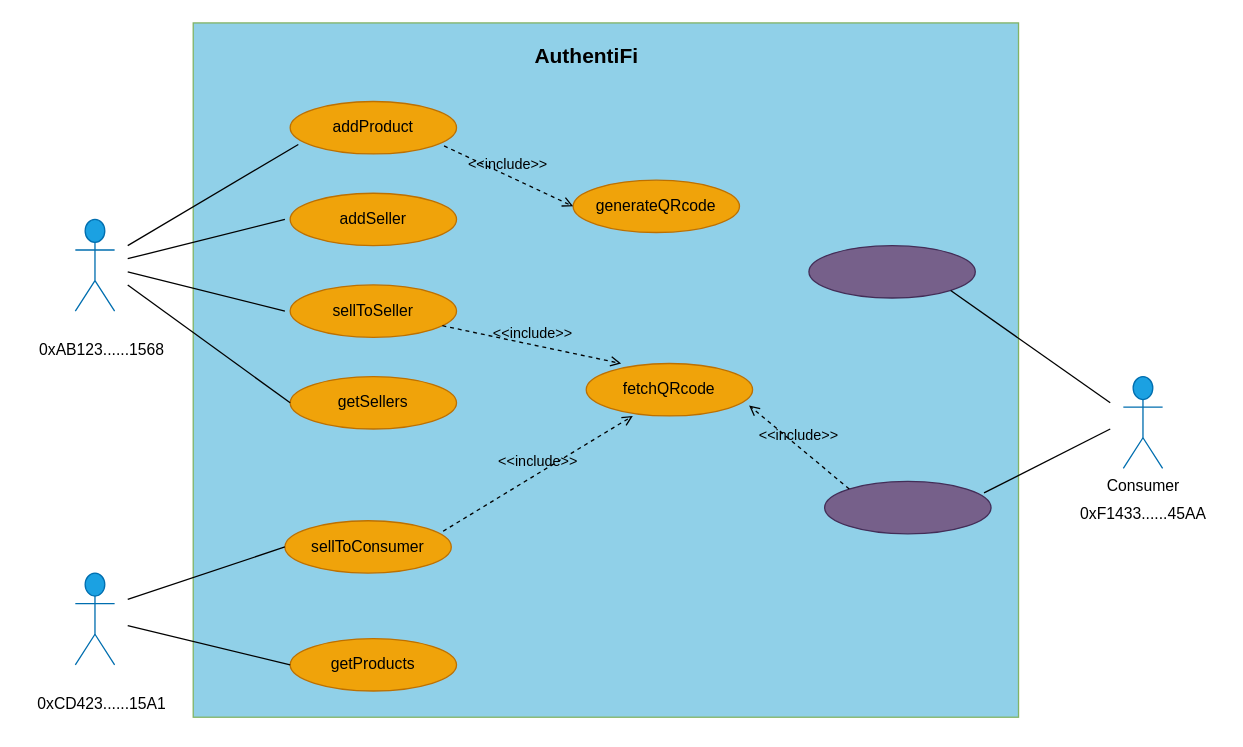
Some shapes in this 1243 by 747 pixel diagram are drawn without their labels. The shapes that lost their labels are listed below. From the top down, each one's centre as x and y in pixels, then its label:
At point (94, 264): "Manufacturer".
At point (891, 271): "getPurchaseHistory".
At point (907, 507): "verifyProduct".
At point (94, 618): "Seller".
